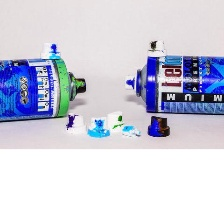aerosol_cans: (119, 48, 223, 119), (0, 53, 91, 124)
